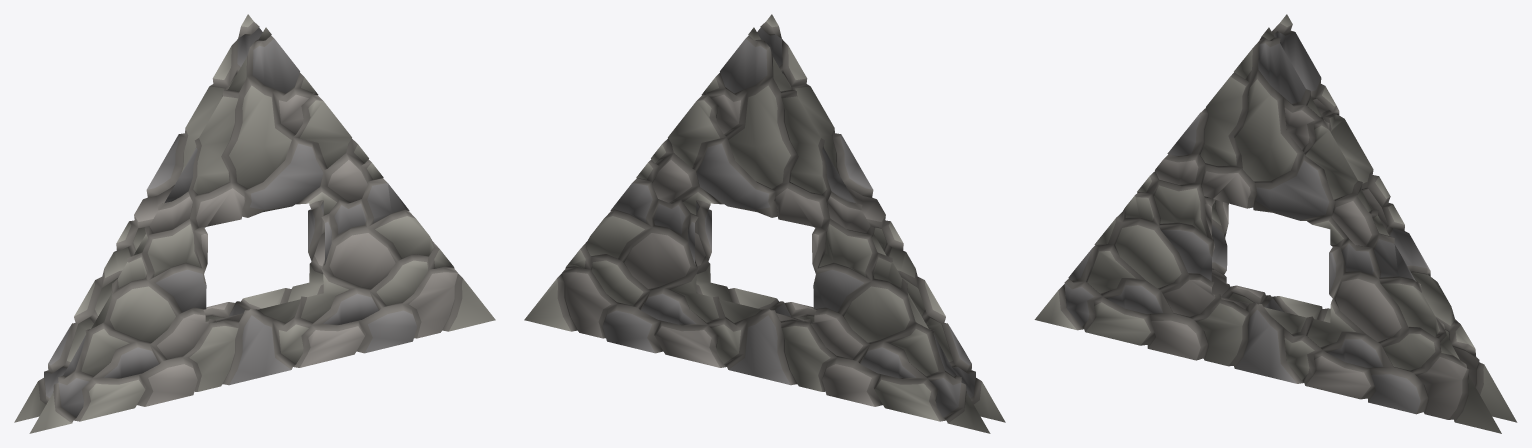
File: rpgpp_ag_roof_end_01_6x5_wall_window_03a.fbx
3 views of the same model, side by side, from view 1: azimuth 30°, elevation 25°; view 2: azimuth 150°, elevation 25°; view 3: azimuth 330°, elevation 25° (orthographic).
Visible parts, largest first — view 1: rpgpp_ag_roof_end_01_6x5_wall_window_03a; view 2: rpgpp_ag_roof_end_01_6x5_wall_window_03a; view 3: rpgpp_ag_roof_end_01_6x5_wall_window_03a.
Part boxes in pixels (bbox=[...]): rpgpp_ag_roof_end_01_6x5_wall_window_03a: bbox=[14, 14, 495, 433]; rpgpp_ag_roof_end_01_6x5_wall_window_03a: bbox=[524, 14, 1005, 433]; rpgpp_ag_roof_end_01_6x5_wall_window_03a: bbox=[1034, 14, 1517, 433].
Bounding box in the file's own units: 6.38 × 4.58 × 0.4229.
